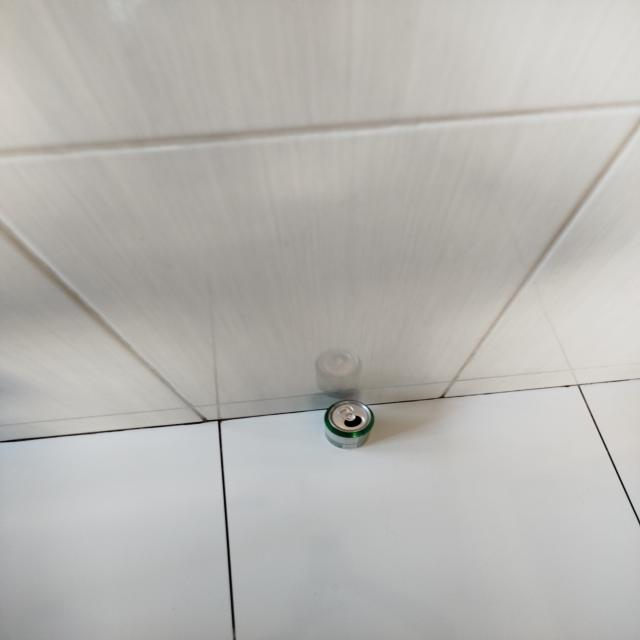Guarana: (322, 398, 377, 449)
